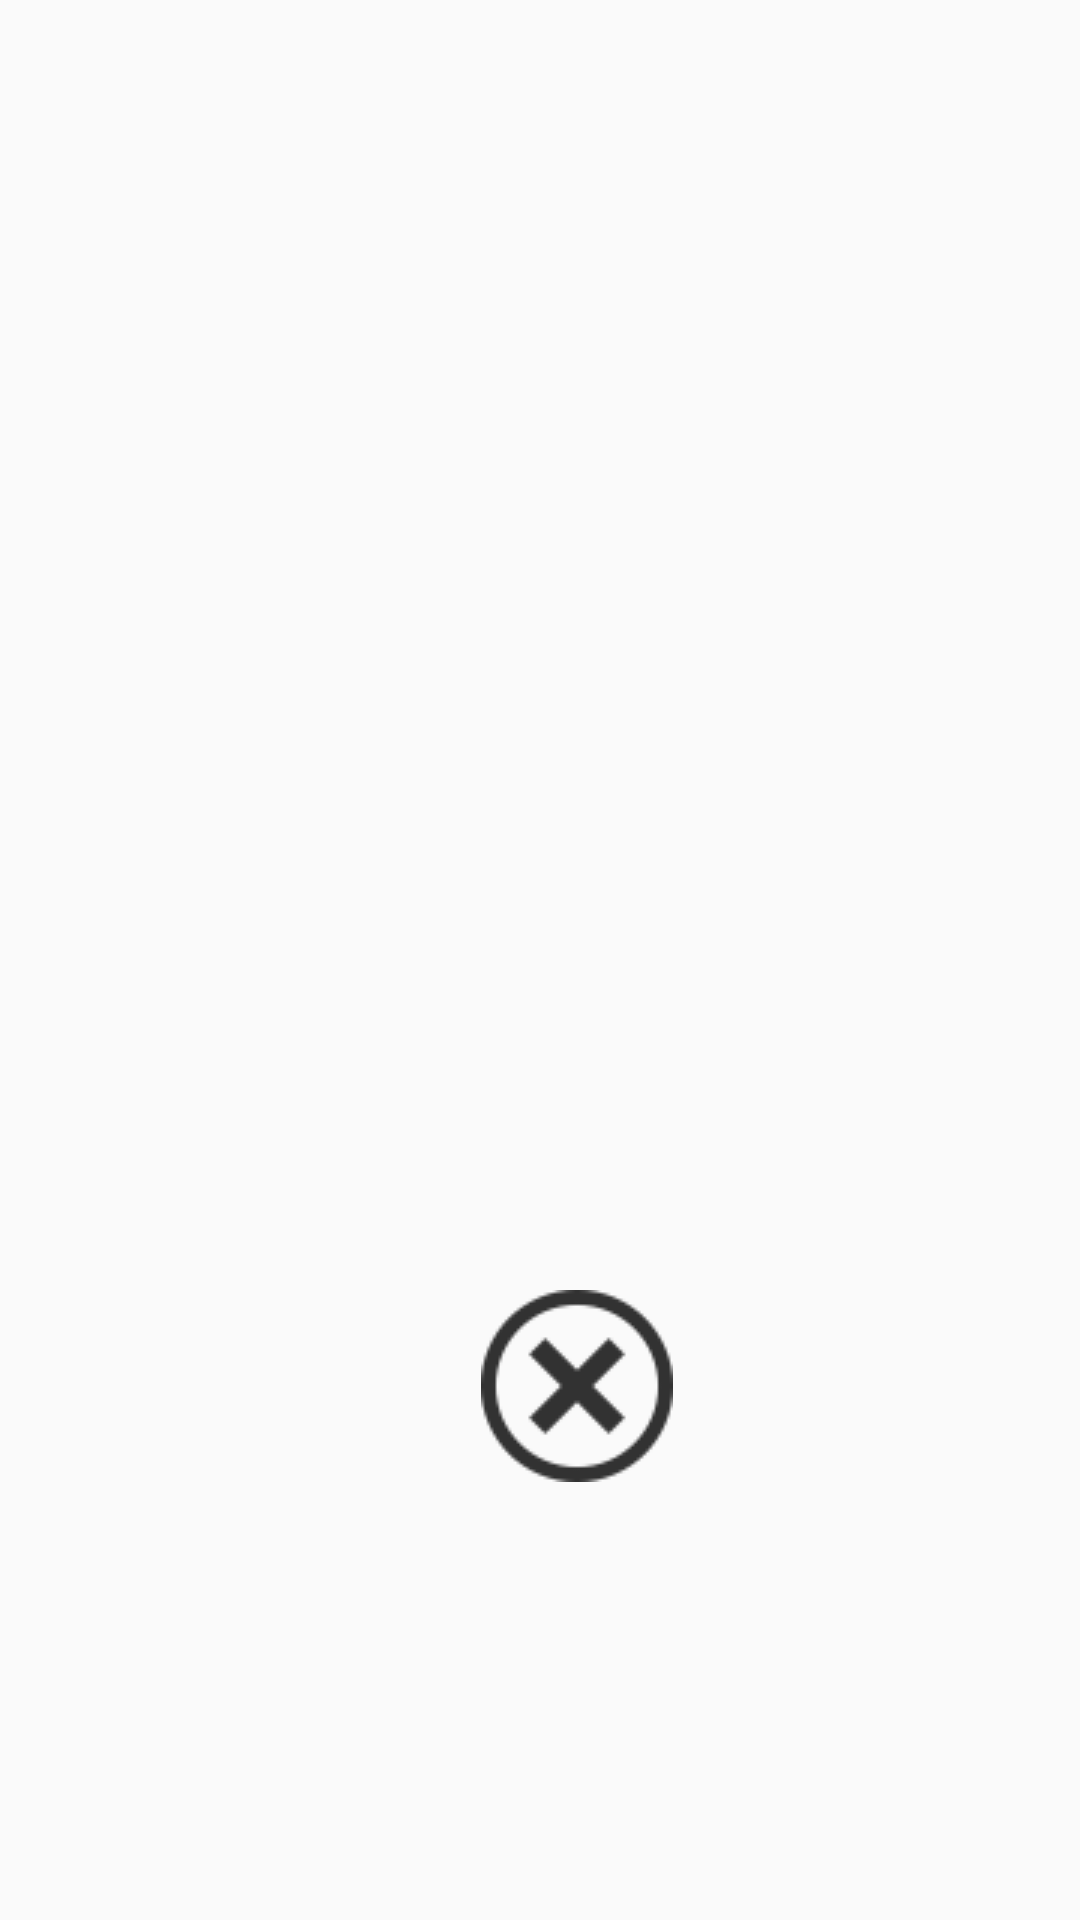

Icons on this 1080 x 1920 Android screen, each with the point to tap as (x=x, y=y):
close: (x=577, y=1386)
